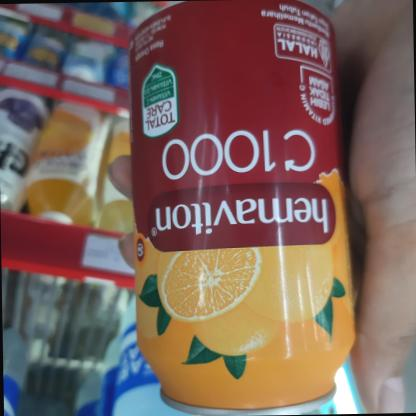alumunium_can: (116, 0, 367, 416)
